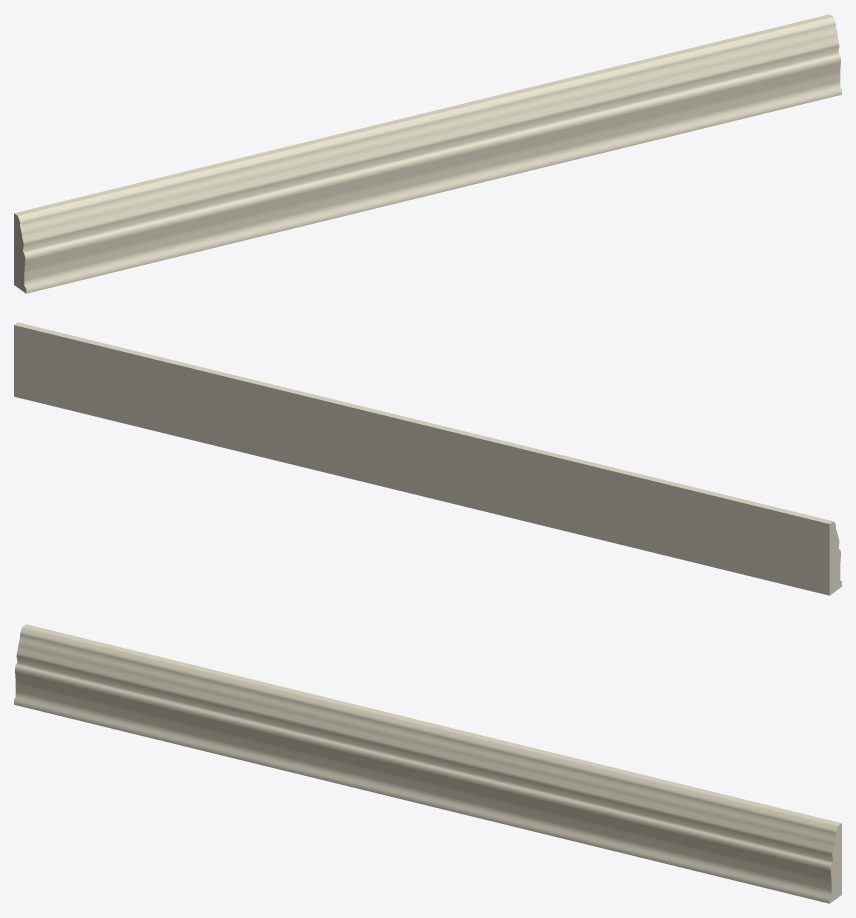
File: floorMoldingFBX.fbx
The picture shows the model from 3 angles, top to bottom: view 1: azimuth 30°, elevation 25°; view 2: azimuth 150°, elevation 25°; view 3: azimuth 330°, elevation 25°; orthographic projection.
Visible parts, largest first — view 1: floorMolding; view 2: floorMolding; view 3: floorMolding.
Part boxes in pixels (<box>): floorMolding: <box>14,14,841,293</box>; floorMolding: <box>14,322,841,595</box>; floorMolding: <box>14,624,841,903</box>.
Size of the model in its own units: 20.97 by 1.76 by 0.5461.
